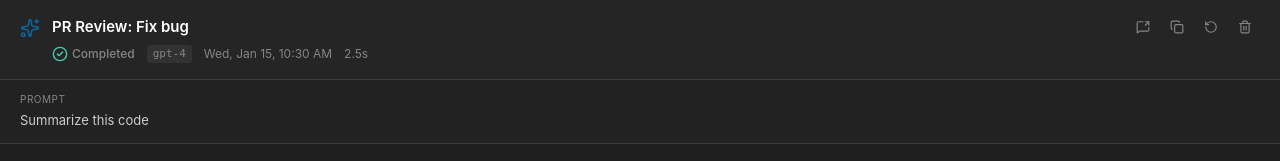
it: CopilotResultPanel › publishes review as PR comment
Click the button titled "Publish review as PR comment" at (1143, 27), box [1128,16,1158,38]
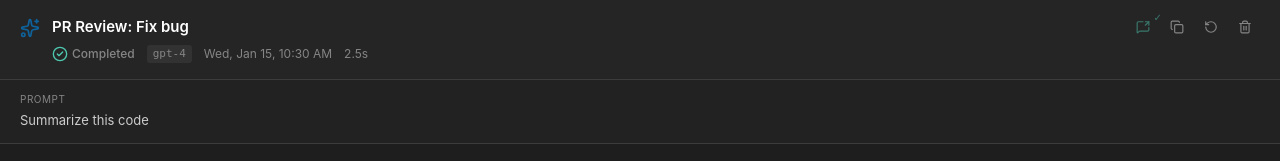
Expected: the button titled "Published to PR" is shown, [1128,16,1158,38]
